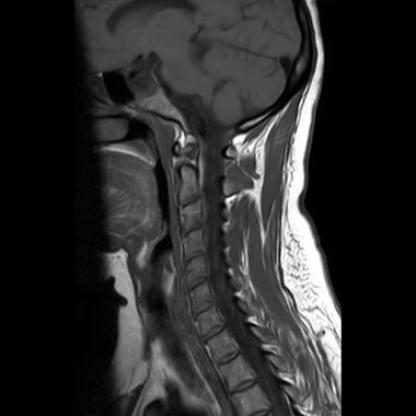Disc Bulgerotation: (180, 224, 207, 241), (182, 251, 207, 264)
